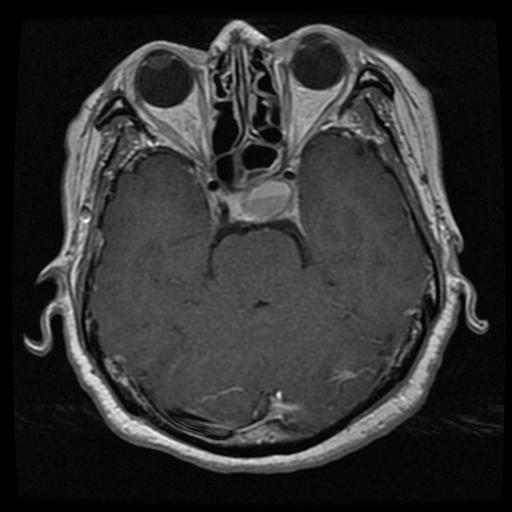Pituirity_tumour: (229, 178, 299, 220)
